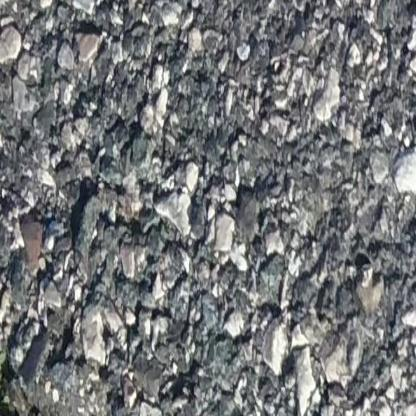Cracks: (0, 382, 116, 416)
